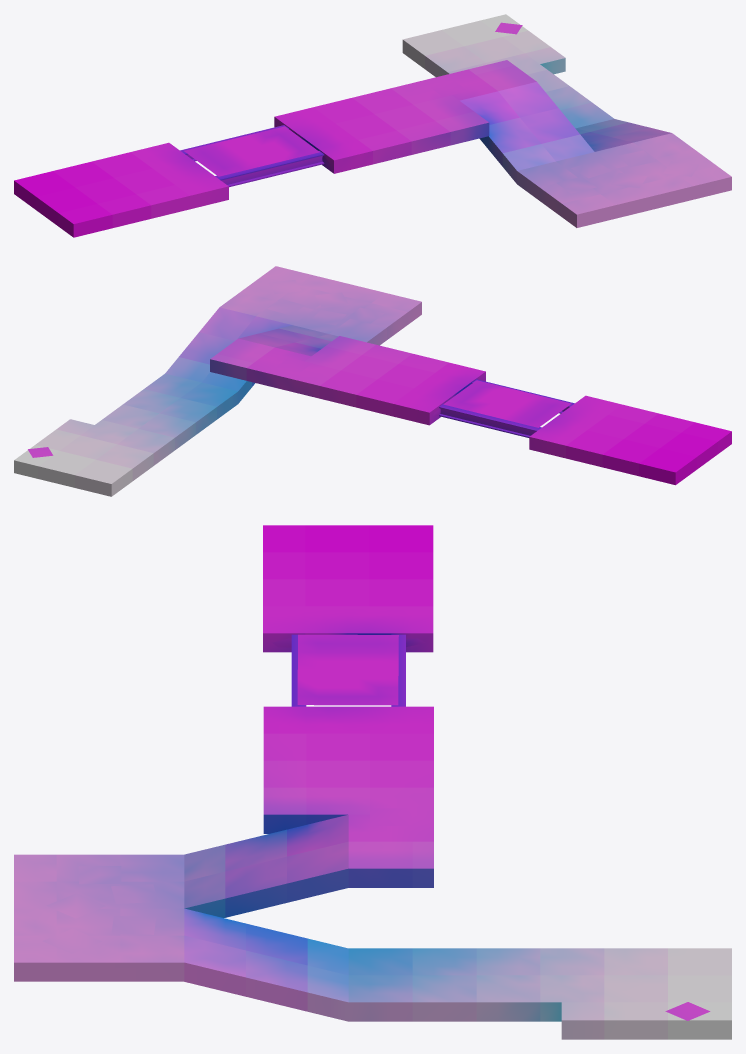
Rendered from SM_RoadModule_D3.fbx.
The picture shows the model from 3 angles, top to bottom: view 1: azimuth 30°, elevation 25°; view 2: azimuth 150°, elevation 25°; view 3: azimuth 270°, elevation 25°; orthographic projection. The views are drawn at different scales.
Visible parts, largest first — view 1: road; view 2: road; view 3: road.
Boxes of the visible parts, x1,y1,x2,y2 form: road: [14, 14, 731, 237]; road: [14, 266, 731, 496]; road: [14, 525, 731, 1039].
Size of what is drawn, in the model's own units: 4625 by 3373 by 515.
